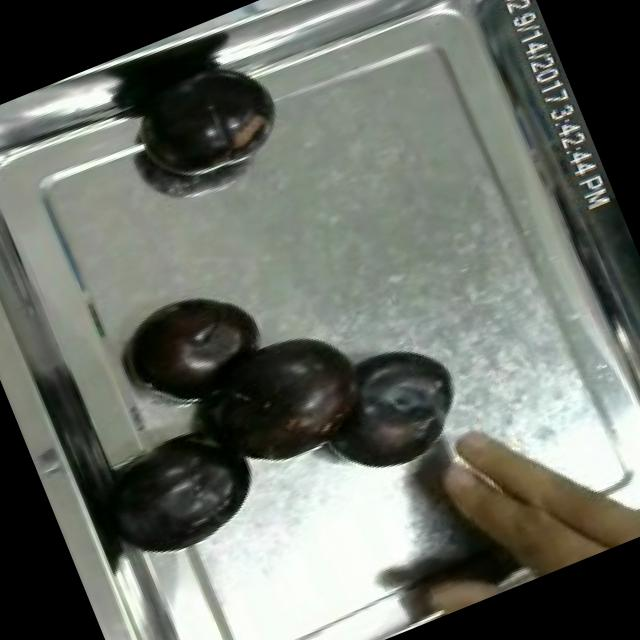Fruit: (189, 305, 390, 487), (296, 322, 482, 496), (114, 41, 300, 205), (90, 416, 274, 579), (114, 272, 272, 410), (358, 536, 511, 640)
